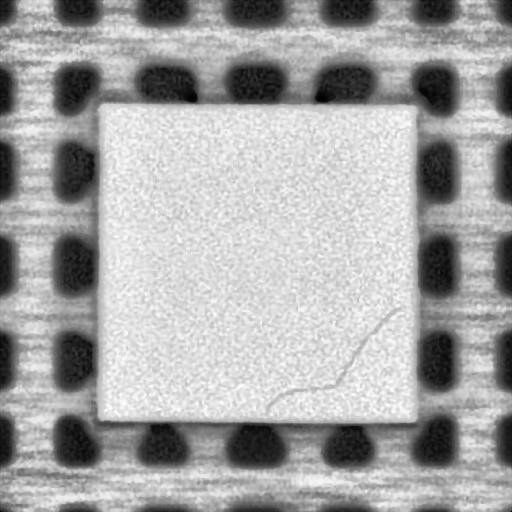DIE_CRACK: (262, 301, 408, 415)
